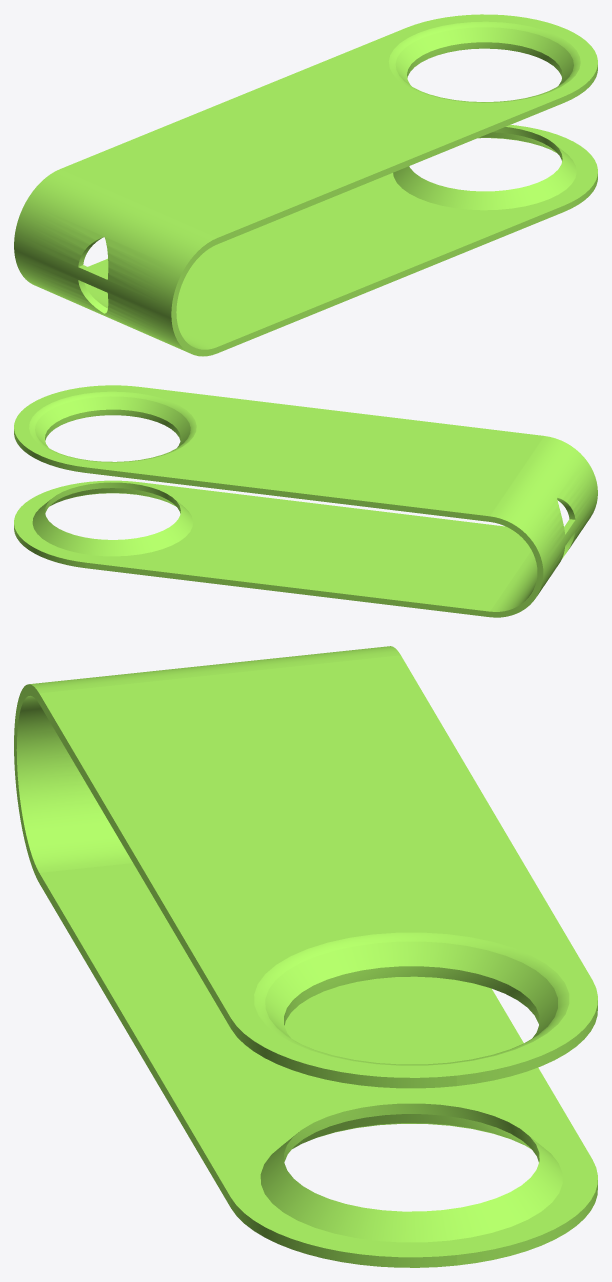
The model's file is original-17.obj.
3 renders of one model, top to bottom at view 1: azimuth 30°, elevation 25°; view 2: azimuth 150°, elevation 25°; view 3: azimuth 270°, elevation 25°, orthographic. The views are drawn at different scales.
Visible parts, largest first — view 1: Group7/Group8/mesh28/mesh28-geometry#mesh28-geometry; view 2: Group7/Group8/mesh28/mesh28-geometry#mesh28-geometry; view 3: Group7/Group8/mesh28/mesh28-geometry#mesh28-geometry.
Boxes of the visible parts, box(x1,y1,x2,y2) form: Group7/Group8/mesh28/mesh28-geometry#mesh28-geometry: box(14, 14, 597, 356); Group7/Group8/mesh28/mesh28-geometry#mesh28-geometry: box(14, 385, 597, 617); Group7/Group8/mesh28/mesh28-geometry#mesh28-geometry: box(14, 646, 597, 1267).
Bounding box in the file's own units: 1.5 × 0.2848 × 0.7933.
